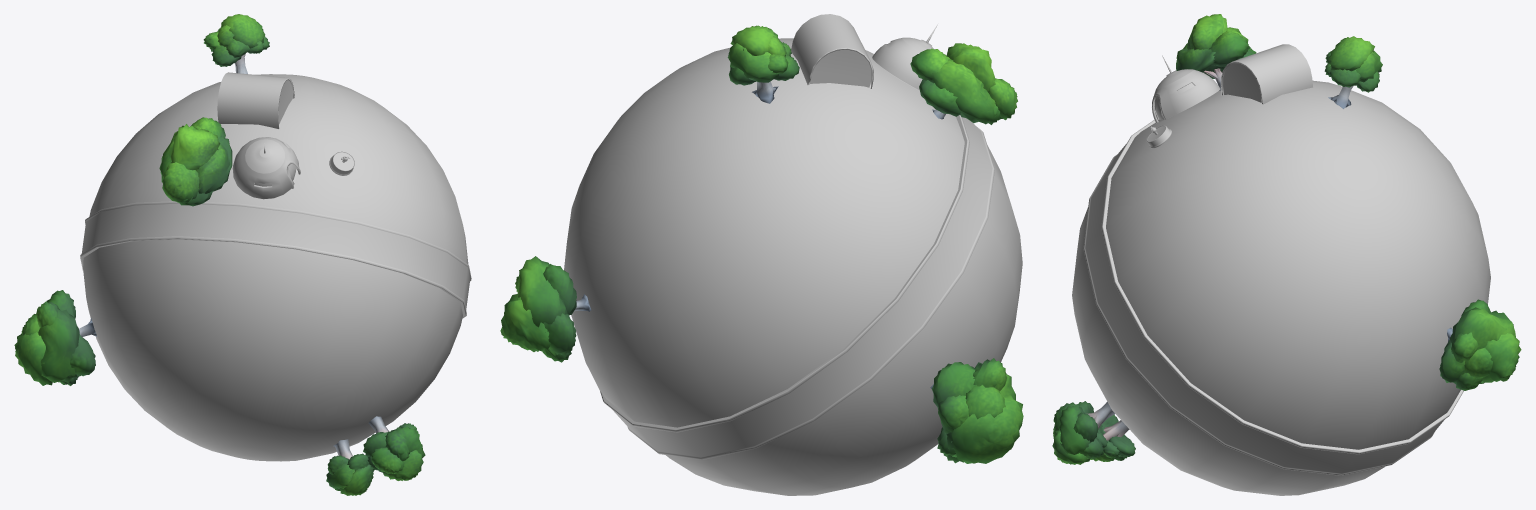
3 views of the same model, side by side, from view 1: azimuth 30°, elevation 25°; view 2: azimuth 150°, elevation 25°; view 3: azimuth 270°, elevation 25° (orthographic). The views are drawn at different scales.
Visible parts, largest first — view 1: Globe, Trees, Road, Garage, House, Trunks; view 2: Globe, Trees, Road, Garage, House, Trunks; view 3: Globe, Road, Trees, Garage, House, Trunks.
Part boxes in pixels (bbox=[...]): Globe: bbox=[83, 74, 468, 461]; Trees: bbox=[14, 14, 425, 495]; Road: bbox=[80, 201, 471, 318]; Garage: bbox=[217, 72, 294, 128]; House: bbox=[232, 137, 300, 199]; Trunks: bbox=[79, 53, 388, 459]; Globe: bbox=[564, 38, 1022, 495]; Trees: bbox=[500, 25, 1023, 463]; Road: bbox=[600, 115, 994, 459]; Garage: bbox=[791, 14, 873, 88]; House: bbox=[872, 24, 937, 90]; Trunks: bbox=[574, 81, 945, 388]; Globe: bbox=[1072, 80, 1490, 495]; Road: bbox=[1083, 120, 1463, 475]; Trees: bbox=[1052, 14, 1521, 464]; Garage: bbox=[1221, 44, 1312, 104]; House: bbox=[1152, 55, 1220, 123]; Trunks: bbox=[1086, 68, 1452, 440].
Bounding box in the file's own units: 9.32 × 9.19 × 8.95.
